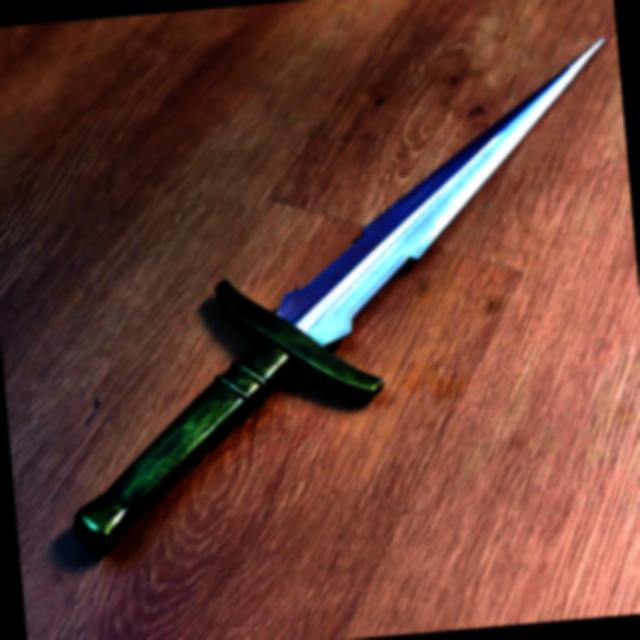short sword: (24, 32, 640, 575)
